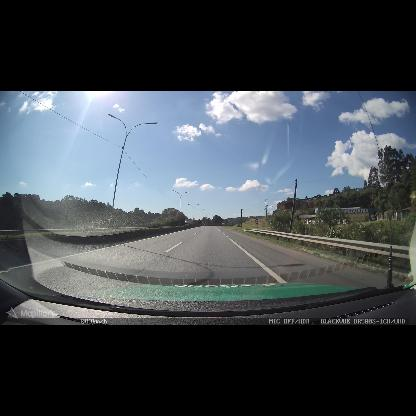R-19: (255, 219, 259, 224)
